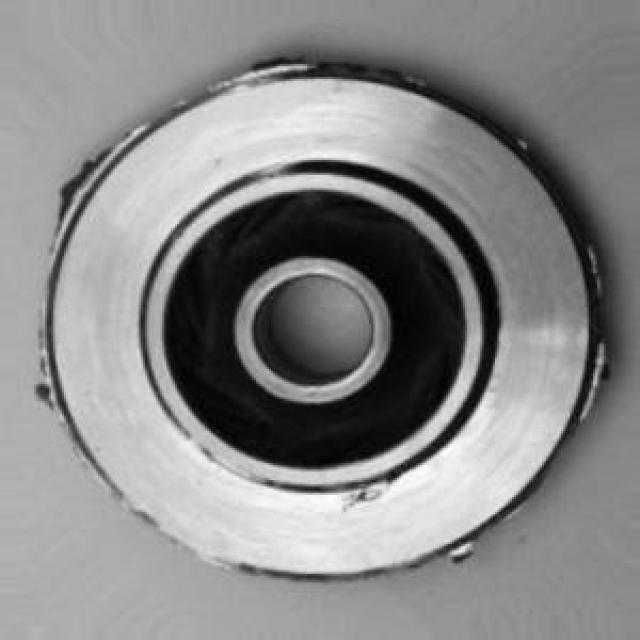Defect: (44, 150, 121, 213)
